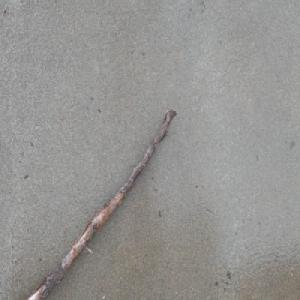Wood: (17, 106, 178, 300)
